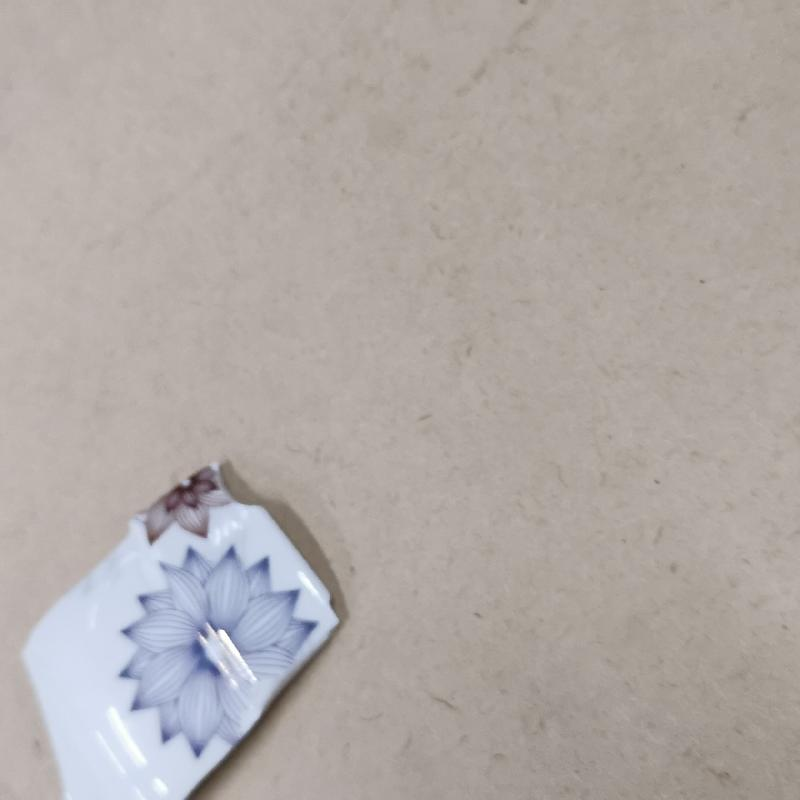ceram: (8, 458, 346, 800)
